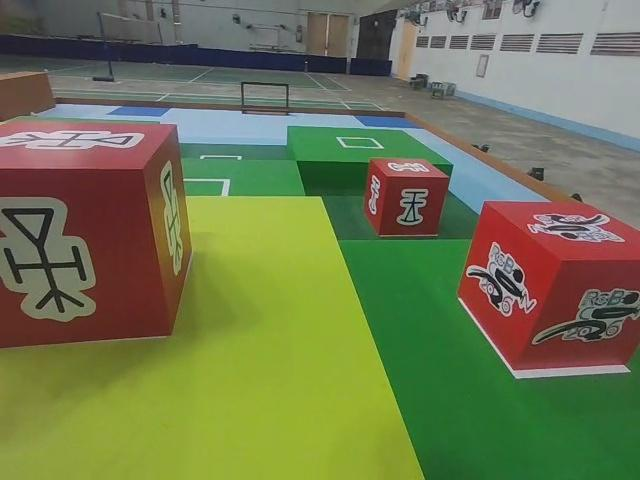R1: (454, 195, 640, 375)
R2 Real: (0, 117, 194, 355), (361, 156, 453, 240)
